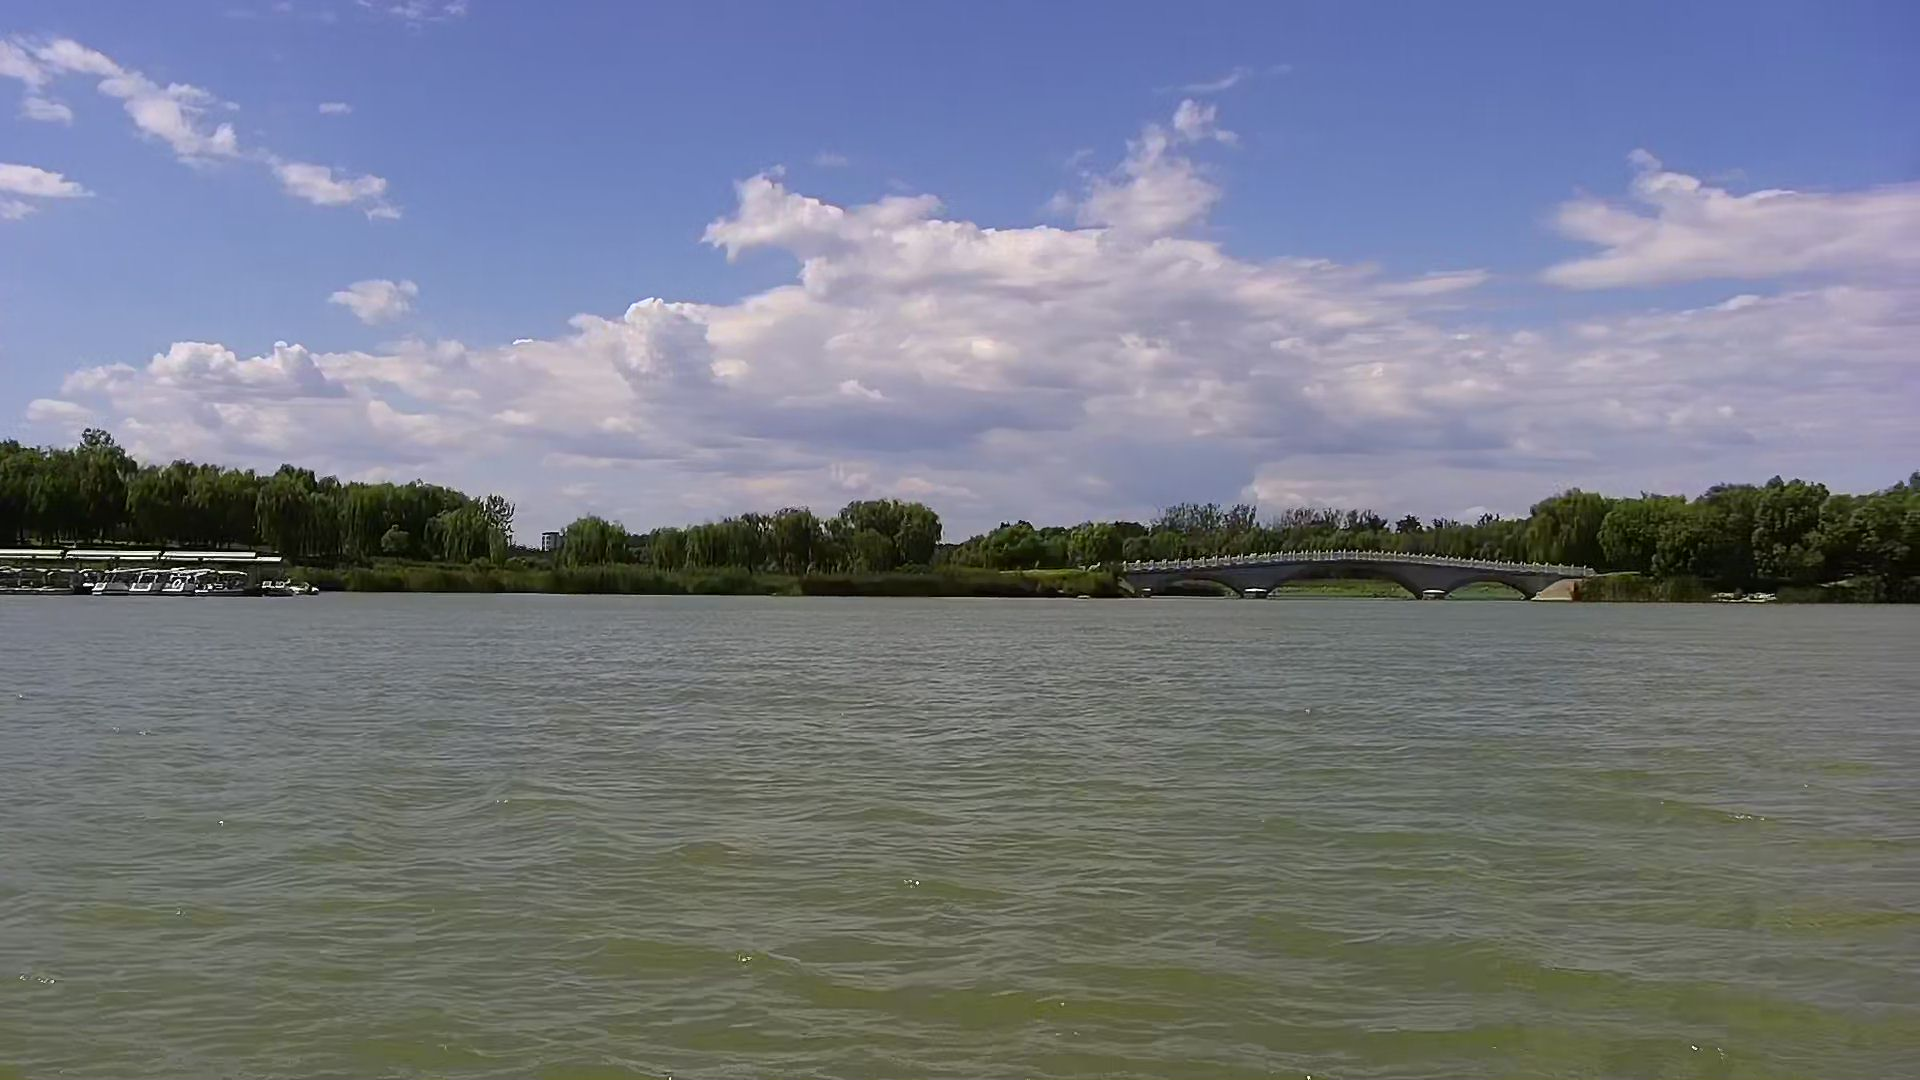bridge: (1116, 545, 1602, 601)
harbor: (1, 545, 309, 604)
